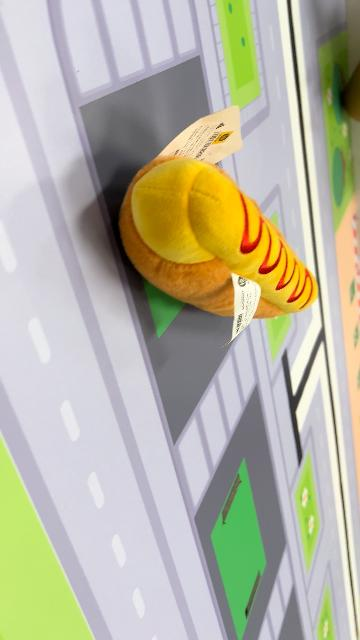hotdog: (117, 154, 320, 322)
